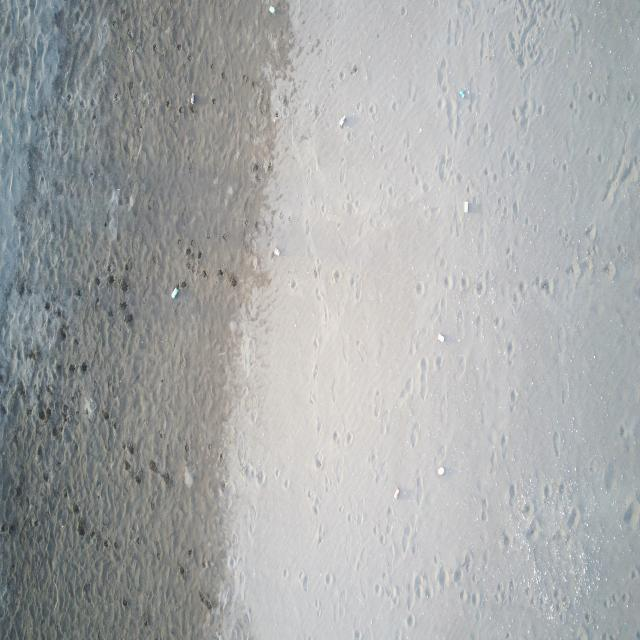Garbage: (183, 467, 192, 487), (337, 115, 346, 127), (457, 88, 467, 98), (393, 487, 400, 499), (172, 287, 179, 299), (436, 332, 444, 342), (435, 467, 444, 475), (190, 93, 196, 104), (272, 247, 279, 256), (463, 200, 468, 212), (268, 4, 275, 12)
